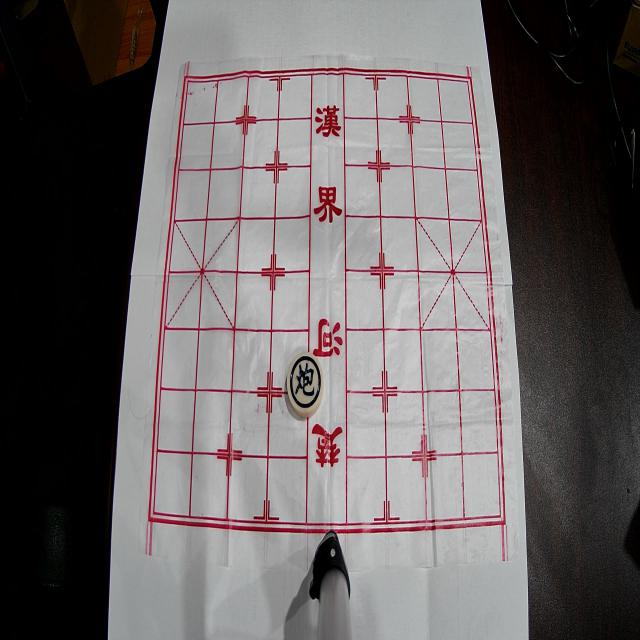black-cannon: (287, 352, 323, 417)
